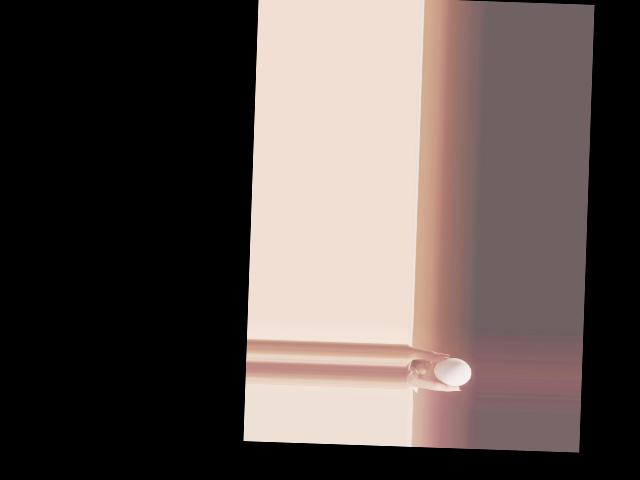egg: (433, 356, 471, 386)
